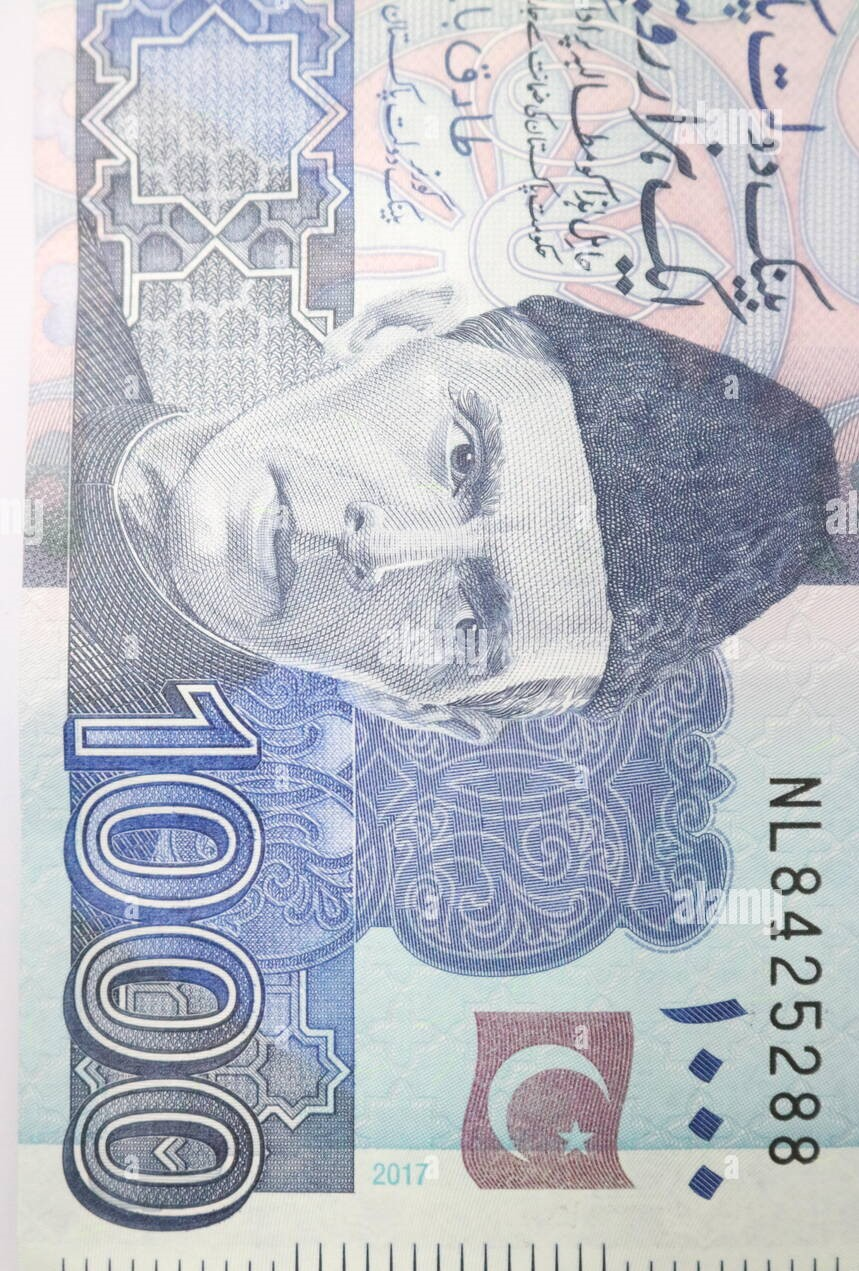1000 rupee: (27, 16, 843, 1271)
